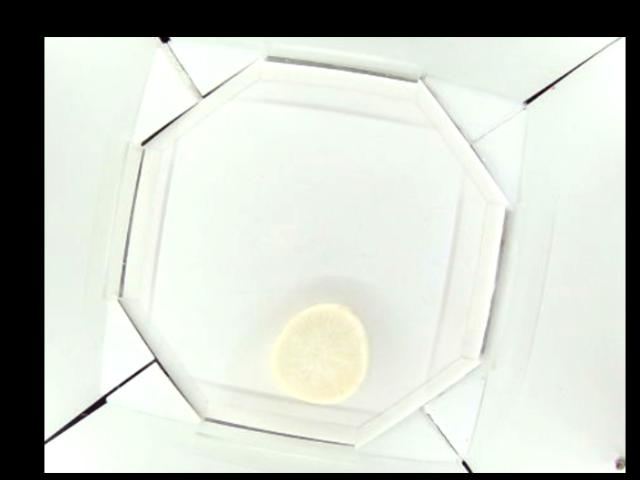Mooli: (271, 301, 368, 405)
